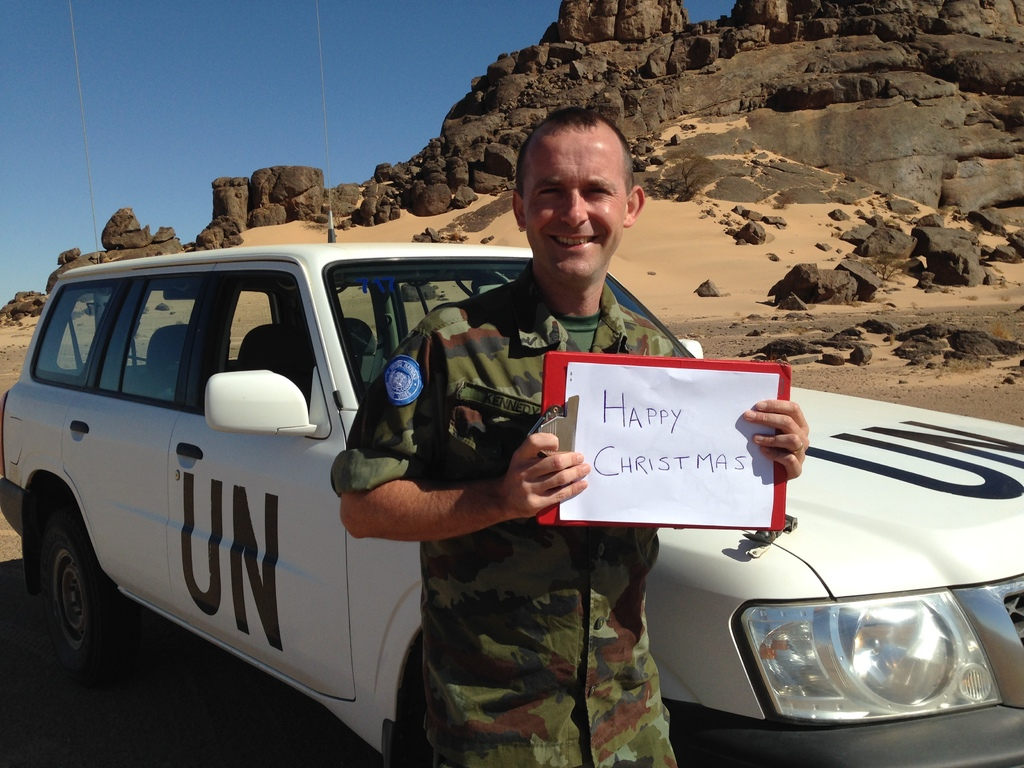Car: (0, 1, 1023, 767)
